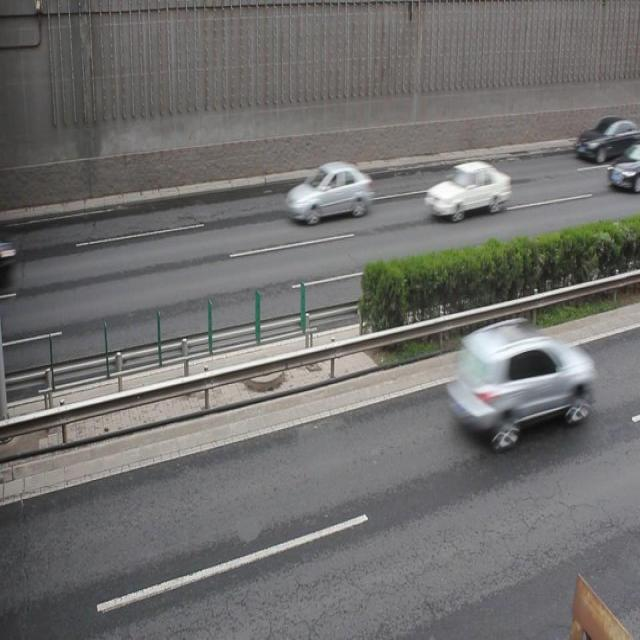car: (448, 320, 593, 448), (286, 157, 372, 220), (424, 161, 509, 218), (574, 116, 640, 162)
